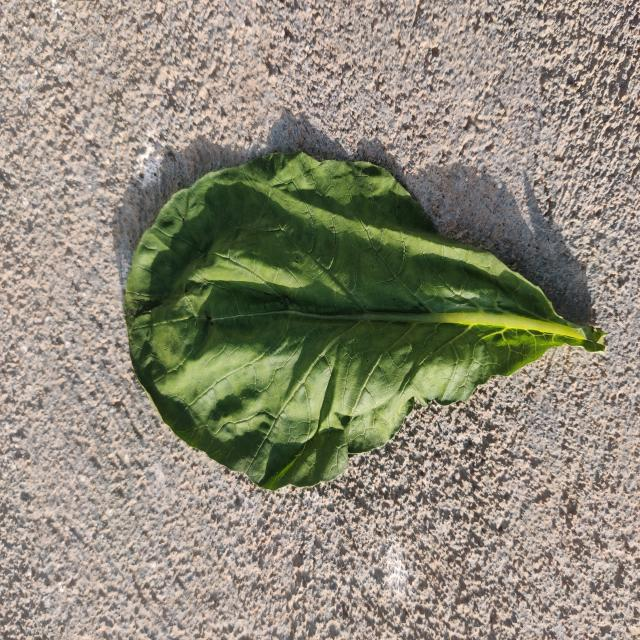raddish: (125, 153, 605, 490)
